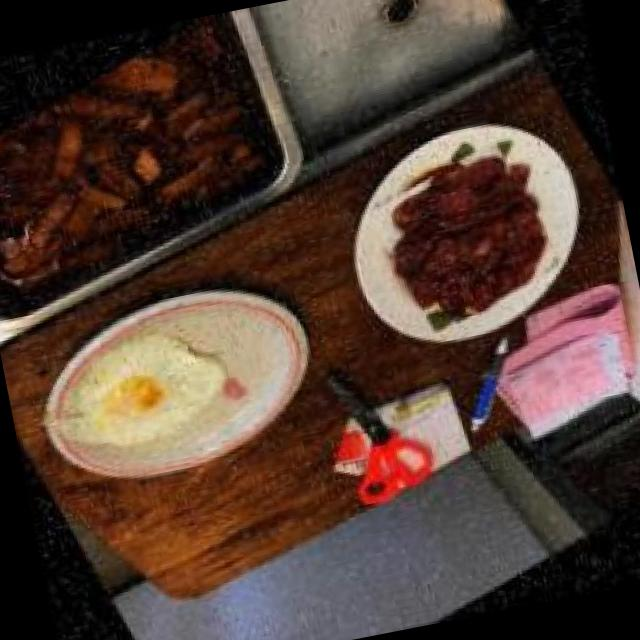chinese_sausage: (357, 132, 576, 348)
fried_eggs: (38, 301, 251, 484)
